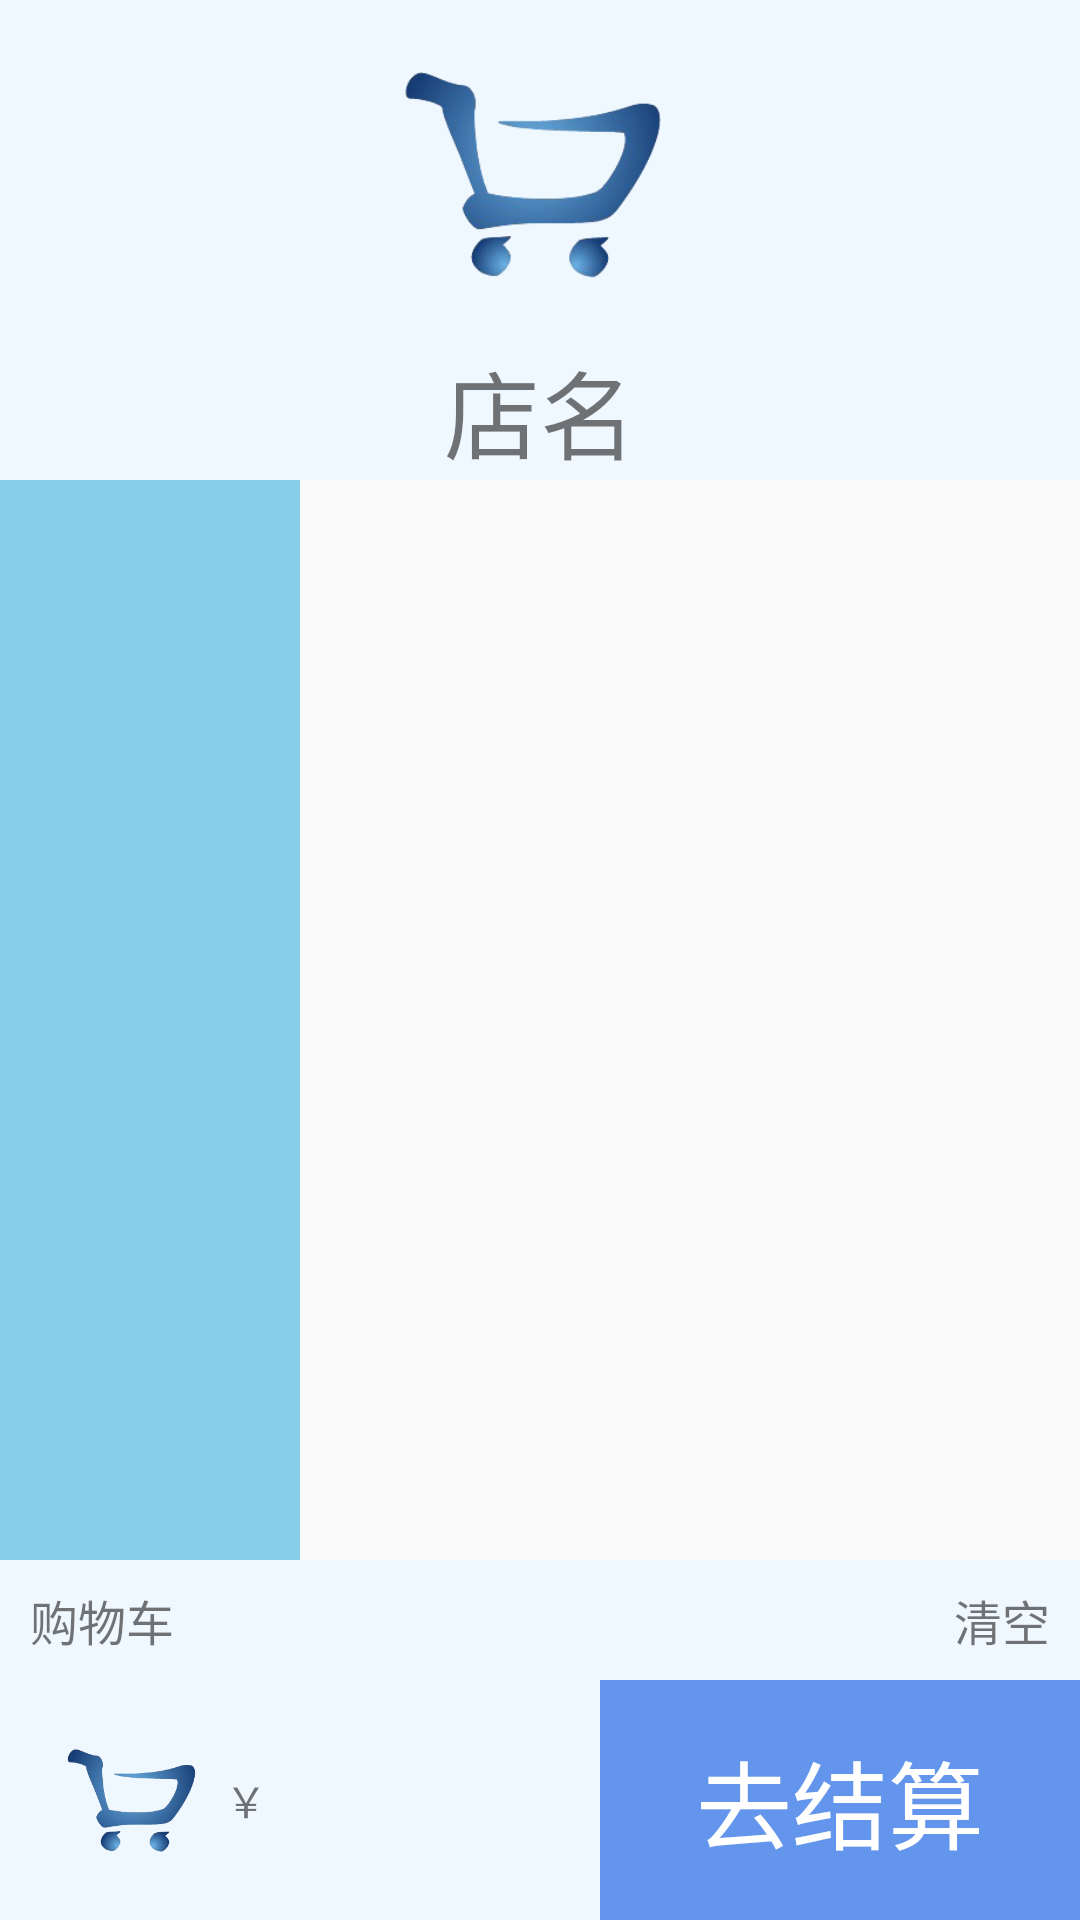

Icons on this 1080×1920 Android screen, each with its box as (x1, y1, x2, y2):
cart: (405, 72, 661, 277), (67, 1749, 195, 1852)
